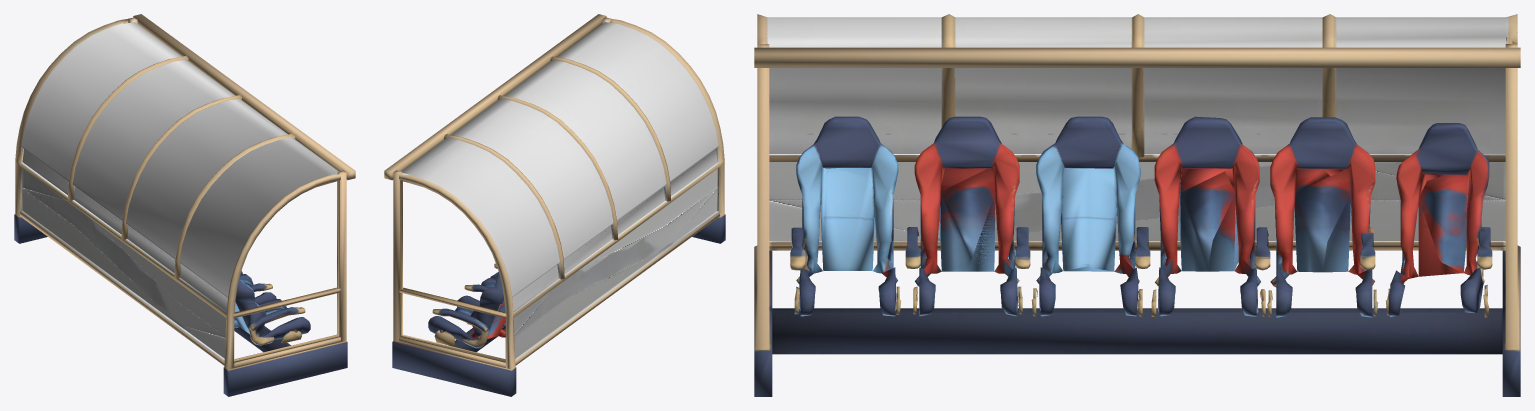
Rendered from team-dugout.glb.
3 renders of one model, left to right at view 1: azimuth 30°, elevation 25°; view 2: azimuth 150°, elevation 25°; view 3: azimuth 270°, elevation 25°, orthographic. The views are drawn at different scales.
Visible parts, largest first — view 1: Team dugout; view 2: Team dugout; view 3: Team dugout.
Boxes of the visible parts, x1,y1,x2,y2 form: Team dugout: (14,14,355,396); Team dugout: (384,14,725,396); Team dugout: (754,14,1520,396).
Bounding box in the file's own units: 0.3418 × 0.502 × 0.998.
Materials: 1 (1 with a texture image).
